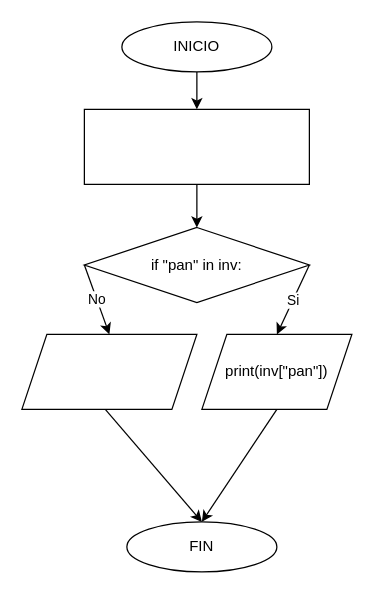
Image size: 374x594. Some labels were removed from this diagram. Here are the shapes that lost their labels. From the top down, the centre of each, then its label:
pixel 196 146: inv={"pan":1200,"leche":2000}
pixel 109 371: print("Producto no disponible")
